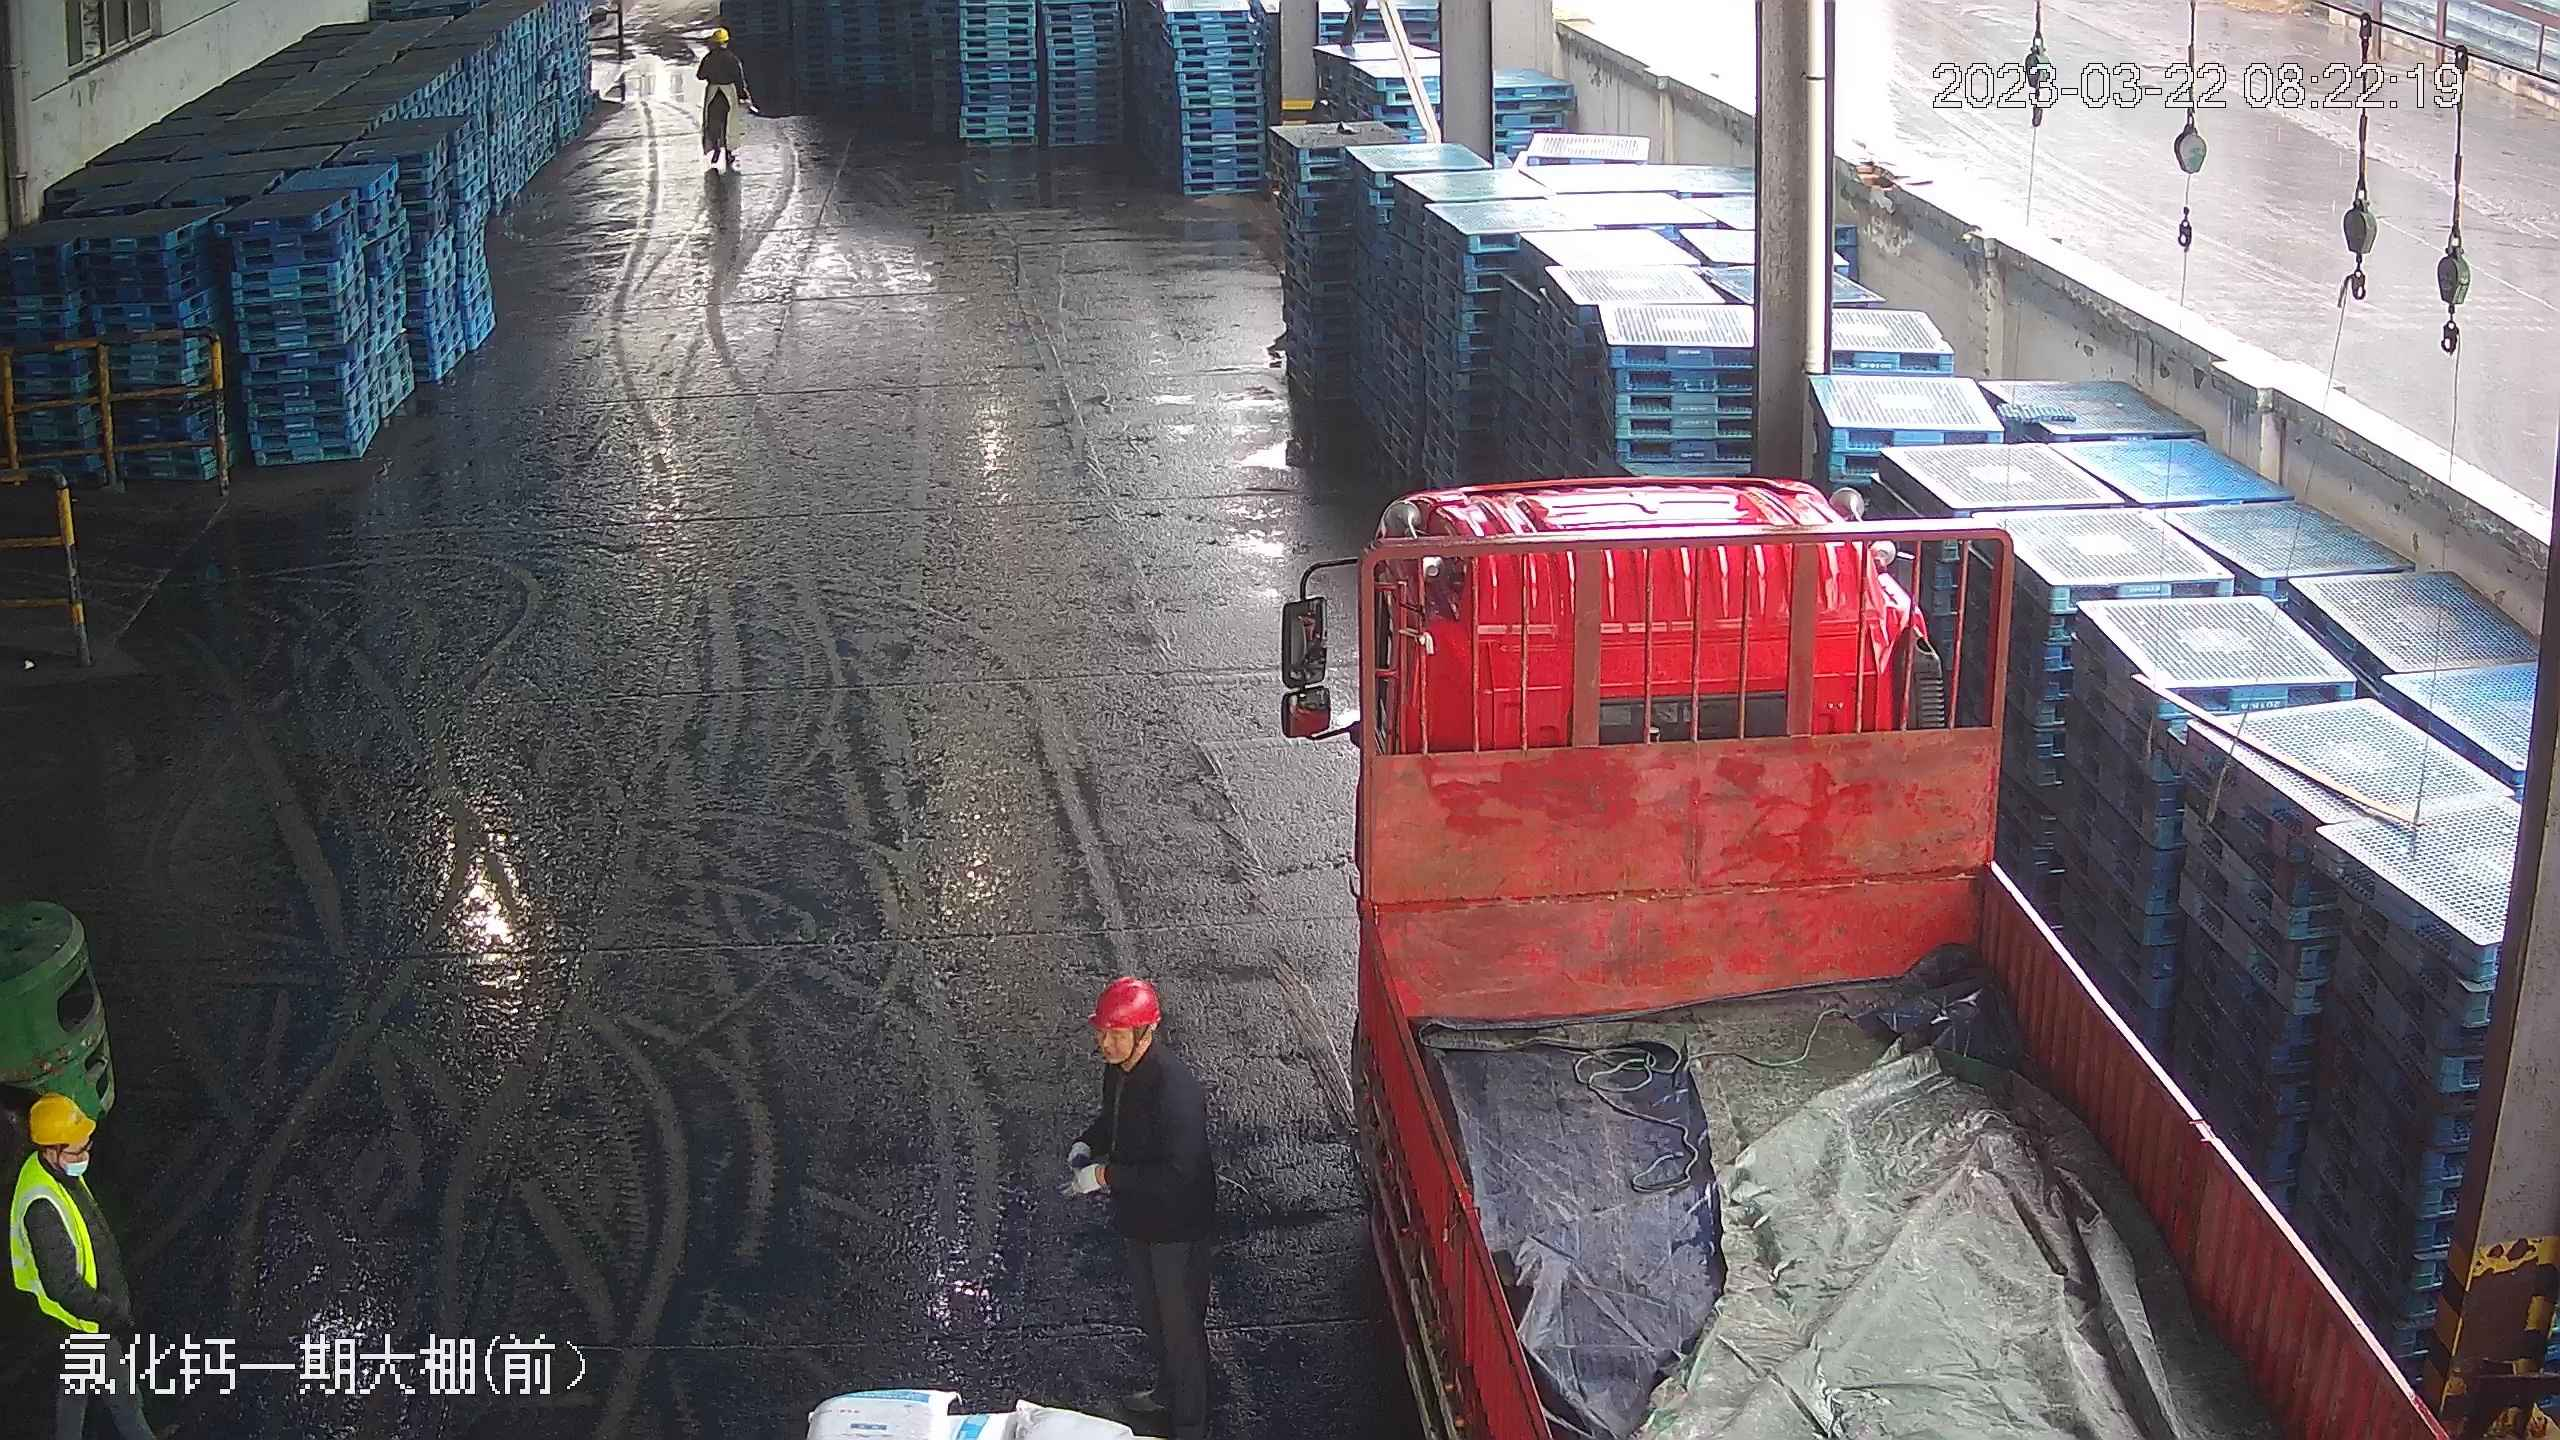head: (1073, 972, 1218, 1144), (5, 1092, 112, 1251), (699, 25, 741, 71)
helmet: (7, 1092, 111, 1241), (1086, 972, 1164, 1033), (26, 1093, 97, 1142), (711, 27, 730, 44)
people: (1064, 968, 1237, 1429), (2, 1094, 122, 1440), (694, 21, 745, 174)
truck: (1300, 454, 2460, 1440)
